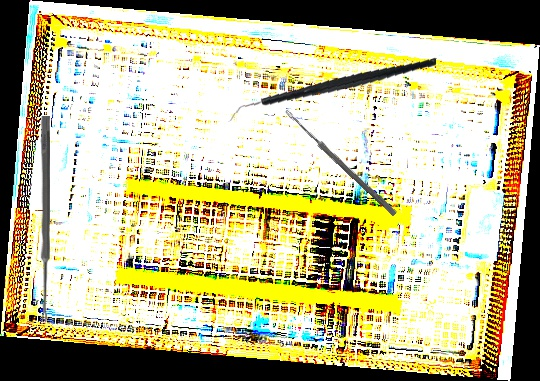Chopper: (228, 33, 437, 147)
Surgical Spoon: (282, 108, 399, 217), (40, 116, 50, 322)
